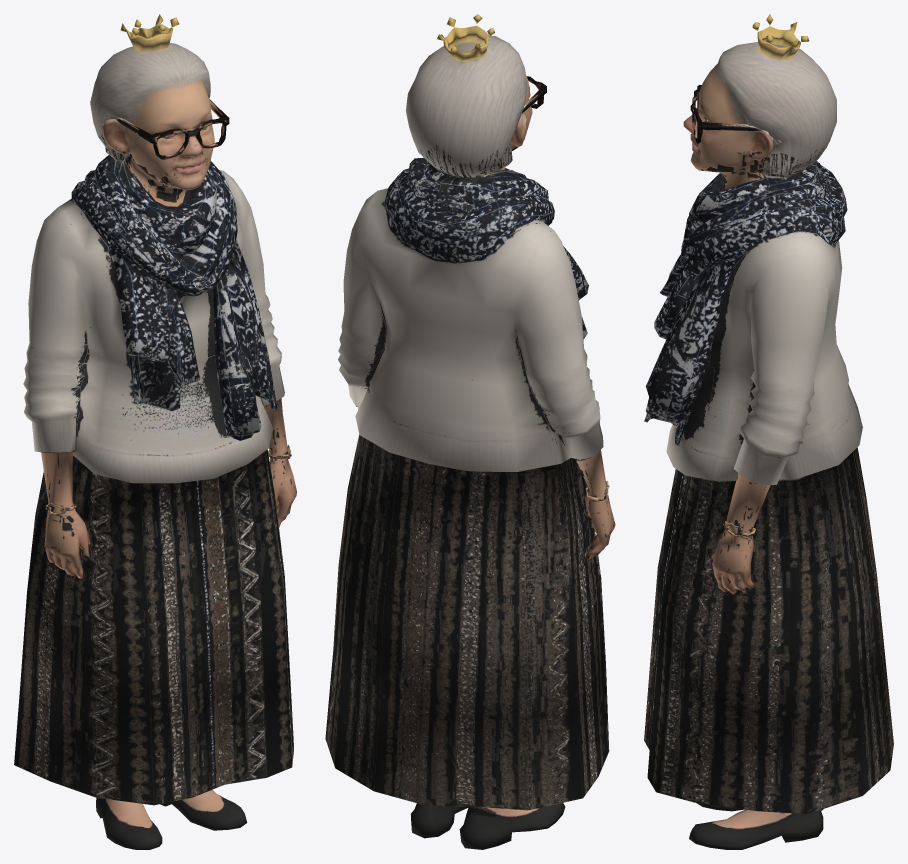
The model's file is Queen_Marta_Black.glb.
3 views of the same model, side by side, from view 1: azimuth 30°, elevation 25°; view 2: azimuth 150°, elevation 25°; view 3: azimuth 270°, elevation 25° (orthographic).
Parts seen in each view (by area): view 1: tripo_node_b99395c3-17ab-41d0-9afb-e73dacb02d55; view 2: tripo_node_b99395c3-17ab-41d0-9afb-e73dacb02d55; view 3: tripo_node_b99395c3-17ab-41d0-9afb-e73dacb02d55.
Boxes of the visible parts, box(x1,y1,x2,y2) form: tripo_node_b99395c3-17ab-41d0-9afb-e73dacb02d55: box(14, 14, 296, 849); tripo_node_b99395c3-17ab-41d0-9afb-e73dacb02d55: box(325, 14, 615, 849); tripo_node_b99395c3-17ab-41d0-9afb-e73dacb02d55: box(644, 14, 893, 849).
Size of the model in its own units: 0.3301 by 0.998 by 0.2832.
Materials: 1 (1 with a texture image).
